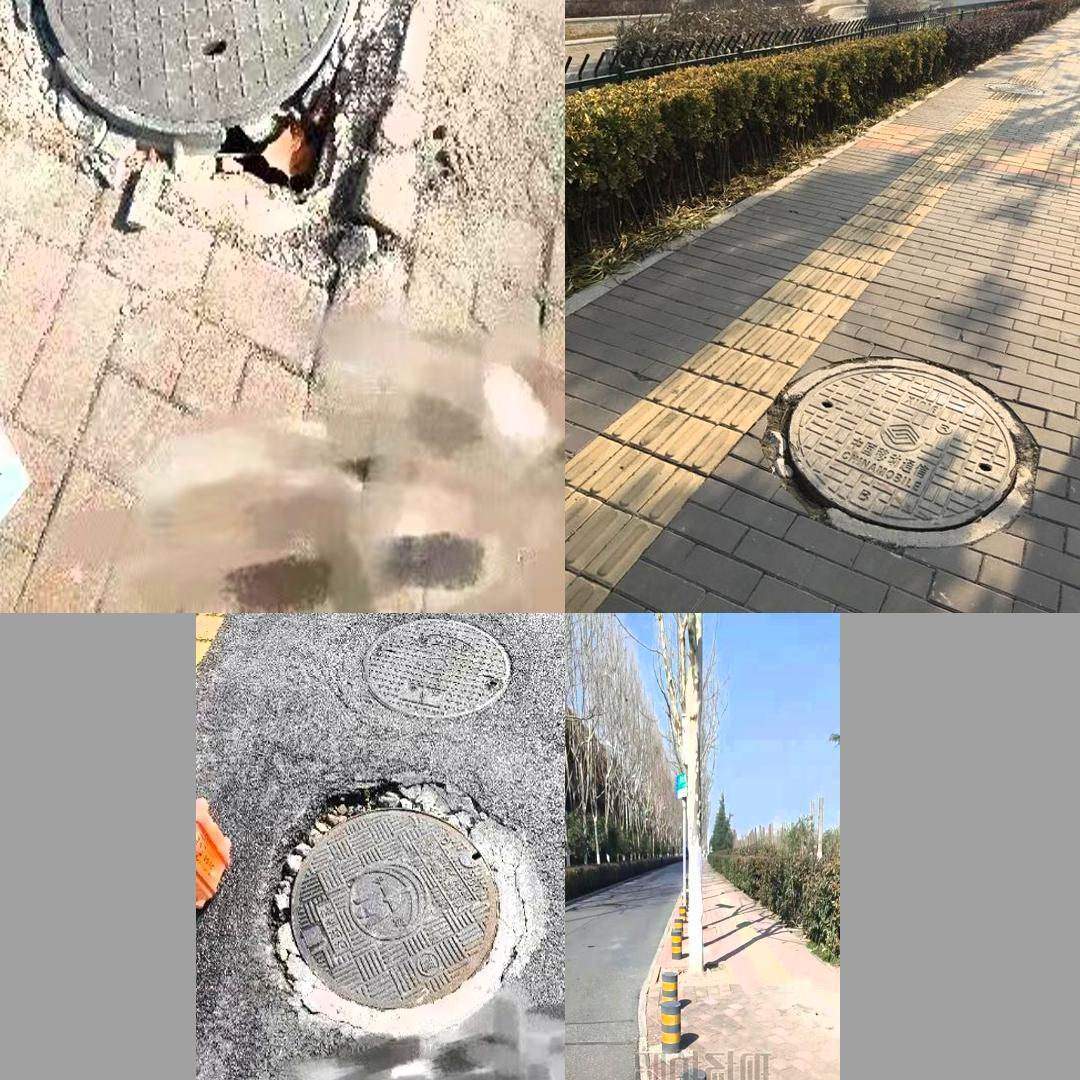circle: (0, 0, 420, 186), (269, 781, 541, 1048), (763, 357, 1042, 547)
good: (360, 617, 515, 719)
